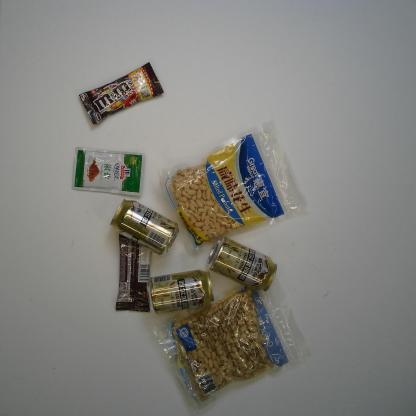Alcohol: (109, 198, 180, 256), (206, 236, 278, 293), (146, 270, 214, 316)
Chocolate: (79, 62, 164, 125), (115, 231, 152, 314)
Dried Fruit: (150, 272, 311, 412), (158, 118, 310, 256)
Seasoner: (71, 147, 146, 197)
